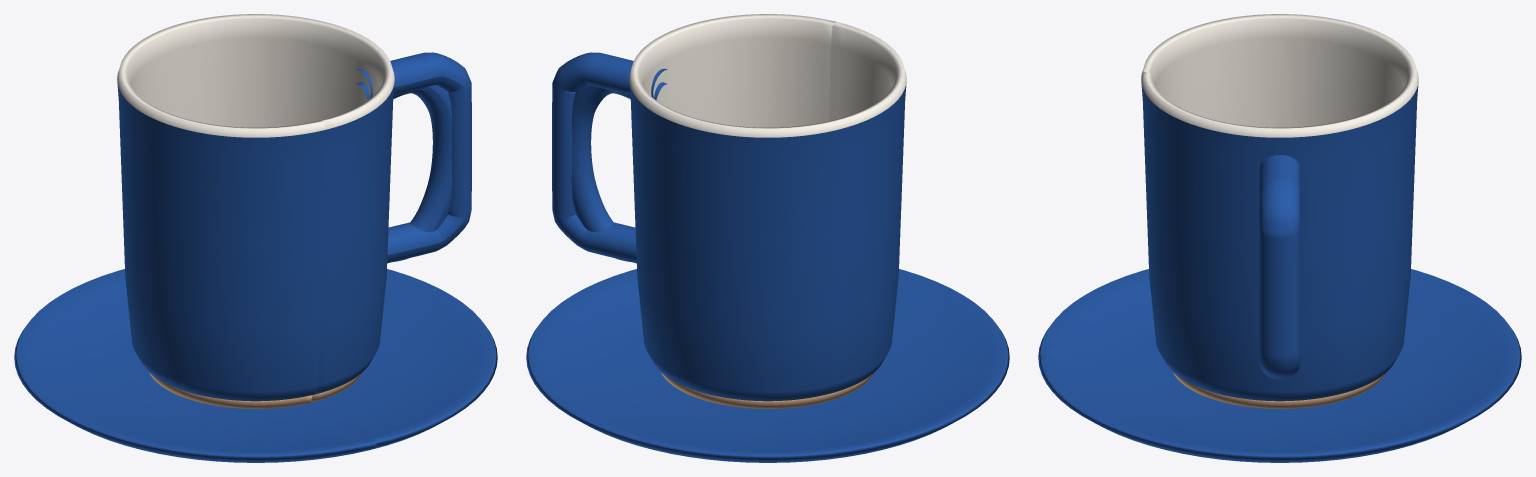
The model's file is studio-mug.glb.
3 renders of one model, left to right at view 1: azimuth 30°, elevation 25°; view 2: azimuth 150°, elevation 25°; view 3: azimuth 270°, elevation 25°, orthographic.
Visible parts, largest first — view 1: Body, Saucer, Interior, Handle_Strap, Handle_Loop, Foot; view 2: Body, Saucer, Interior, Handle_Strap, Handle_Loop, Foot; view 3: Body, Saucer, Interior, Handle_Strap, Foot.
Boxes of the visible parts, x1=… form: Body: x1=117, y1=83, x2=394, y2=401; Saucer: x1=14, y1=269, x2=497, y2=462; Interior: x1=117, y1=14, x2=394, y2=137; Handle_Strap: x1=356, y1=52, x2=471, y2=263; Handle_Loop: x1=356, y1=82, x2=452, y2=261; Foot: x1=149, y1=372, x2=362, y2=408; Body: x1=629, y1=83, x2=906, y2=401; Saucer: x1=526, y1=269, x2=1009, y2=462; Interior: x1=629, y1=14, x2=906, y2=137; Handle_Strap: x1=552, y1=52, x2=667, y2=263; Handle_Loop: x1=571, y1=82, x2=667, y2=261; Foot: x1=661, y1=372, x2=874, y2=408; Body: x1=1141, y1=83, x2=1418, y2=401; Saucer: x1=1038, y1=269, x2=1521, y2=462; Interior: x1=1141, y1=14, x2=1418, y2=137; Handle_Strap: x1=1259, y1=155, x2=1300, y2=379; Foot: x1=1173, y1=372, x2=1386, y2=408.
Bounding box in the file's own units: 1.49 × 1.05 × 1.48.
